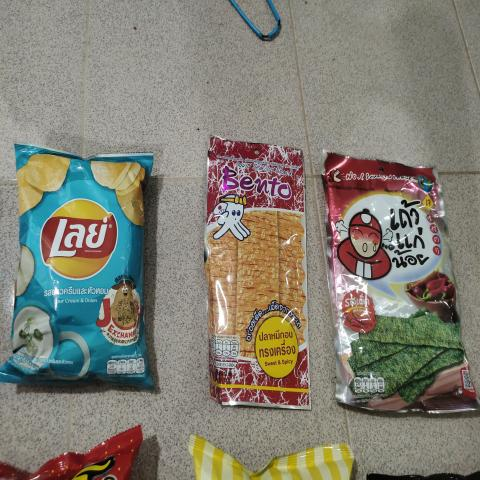bento_red: (208, 137, 308, 391)
lay_blue: (22, 154, 142, 376)
taokaenoi: (322, 152, 472, 415)
